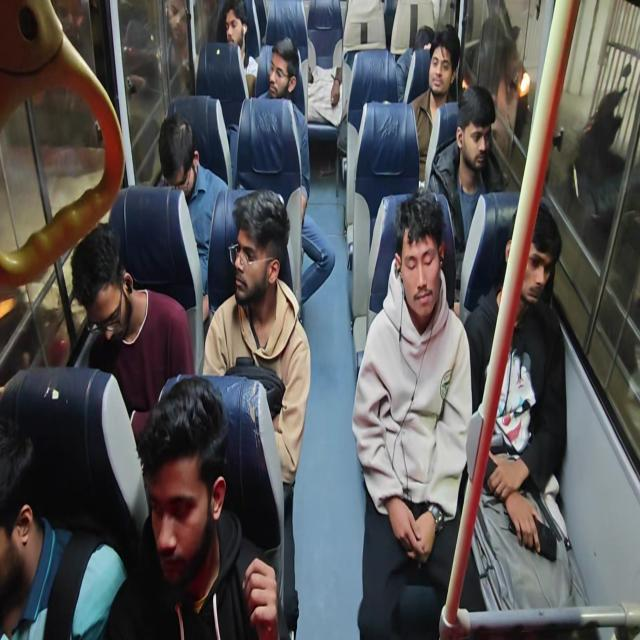person: (140, 389, 230, 580), (389, 186, 451, 342), (71, 227, 142, 352), (2, 430, 48, 619), (500, 195, 563, 325), (232, 192, 284, 326), (452, 81, 502, 181), (159, 106, 204, 196), (426, 31, 457, 100), (267, 42, 298, 104), (220, 0, 250, 56), (416, 26, 437, 52)
